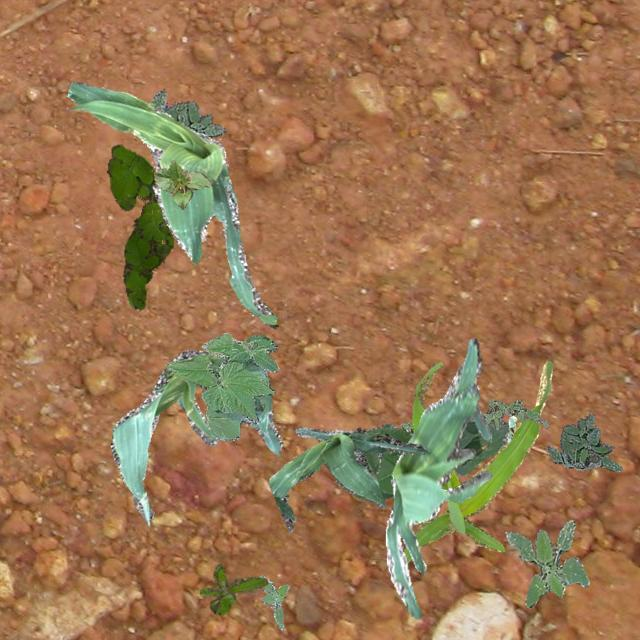crop: (66, 81, 276, 328), (384, 337, 492, 618), (402, 360, 552, 562), (110, 350, 282, 524), (268, 426, 428, 530), (352, 418, 508, 498), (165, 332, 278, 439), (152, 160, 210, 208)
weed: (106, 144, 172, 308), (506, 518, 588, 606), (546, 412, 620, 471), (150, 88, 224, 136), (198, 562, 266, 614), (482, 398, 548, 428), (260, 578, 288, 628), (502, 414, 516, 444), (381, 422, 414, 432)
